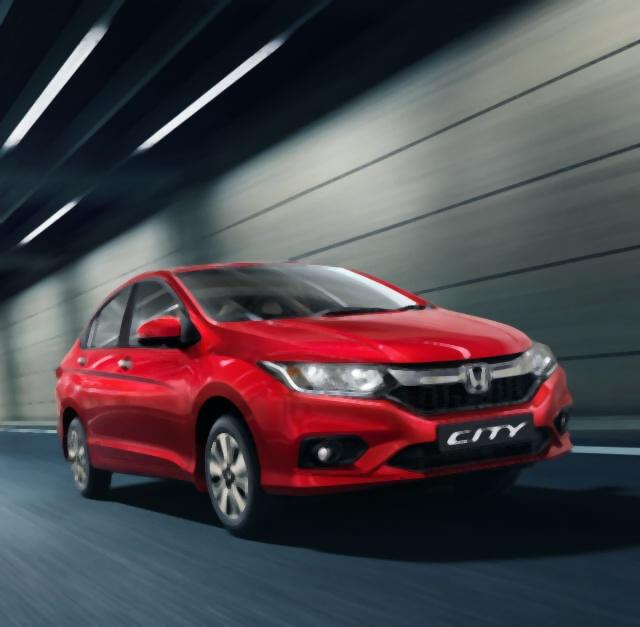Car hood: (202, 308, 540, 370)
Driver-s door - -F-R-: (107, 263, 200, 482)
Fender - -F-R-: (167, 314, 274, 451)
Front bumper: (242, 381, 593, 507)
Headlight - -L-: (524, 340, 559, 385)
Headlight - -R-: (261, 360, 390, 403)
Passenger-s door - -R-R-: (70, 270, 139, 491)
Side bumper - -R-: (90, 446, 196, 492)
Side mirror - -R-: (135, 317, 197, 348)
